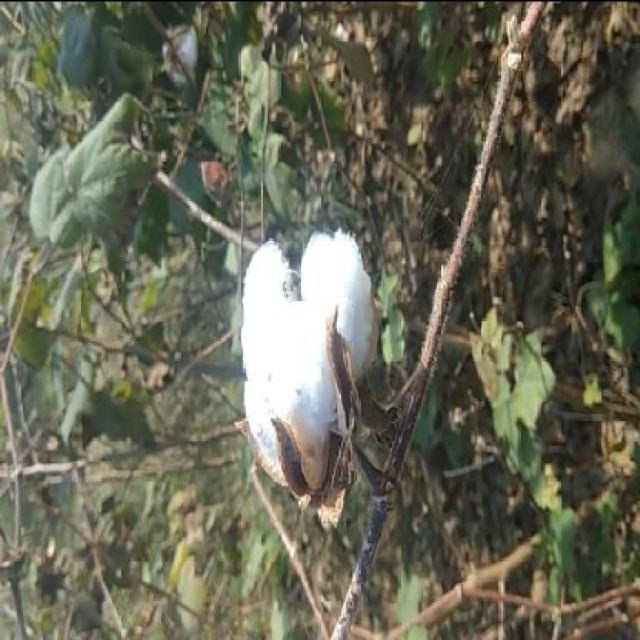cotton_ready: (219, 196, 447, 524)
